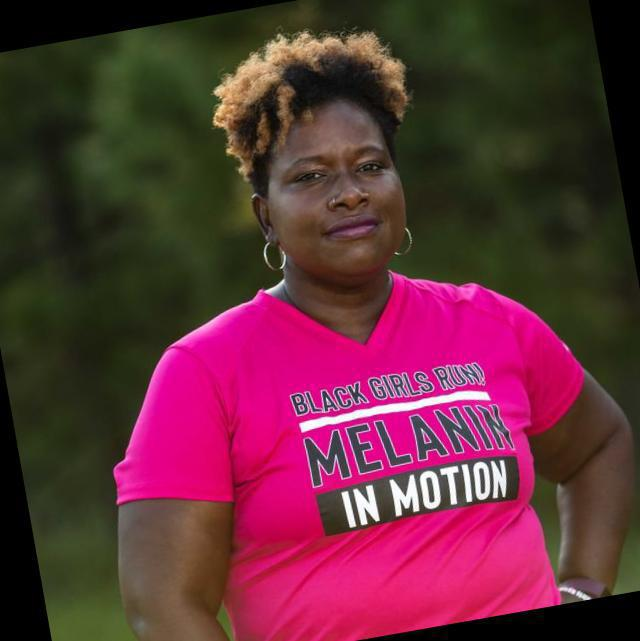Sober: (278, 116, 402, 265)
